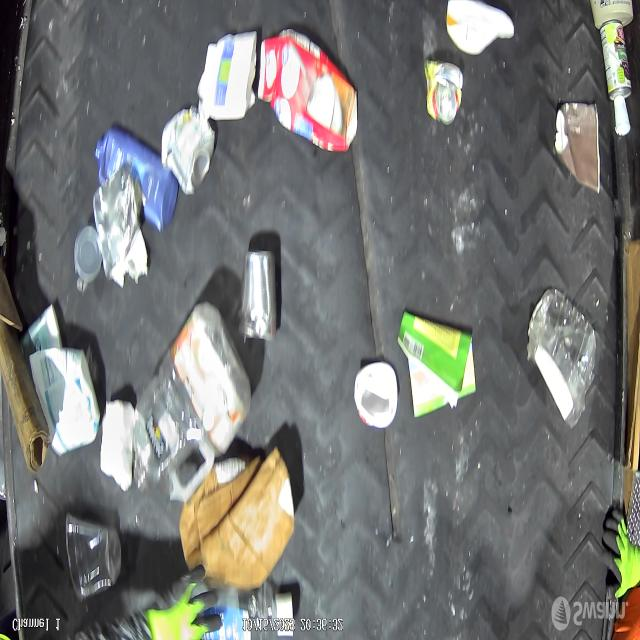can: (155, 103, 217, 200), (597, 10, 640, 116), (418, 46, 464, 140), (244, 244, 281, 348)
non_white_jug: (257, 26, 360, 155)
plastic_bottle: (128, 302, 252, 503)
